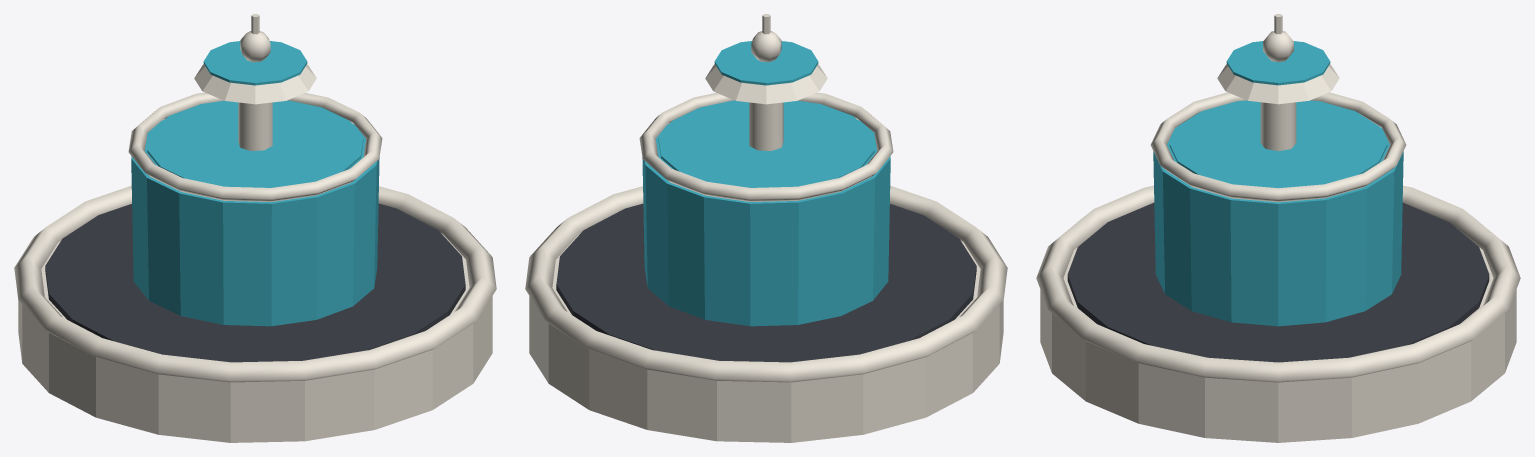
Rendered from fountain.glb.
The picture shows the model from 3 angles, left to right: view 1: azimuth 30°, elevation 25°; view 2: azimuth 150°, elevation 25°; view 3: azimuth 270°, elevation 25°; orthographic projection.
Visible parts, largest first — view 1: fountain, Water; view 2: fountain, Water; view 3: fountain, Water.
Boxes of the visible parts, bbox=[...] form: fountain: bbox=[14, 14, 496, 442]; Water: bbox=[131, 41, 379, 326]; fountain: bbox=[525, 14, 1007, 442]; Water: bbox=[642, 41, 890, 326]; fountain: bbox=[1036, 14, 1520, 442]; Water: bbox=[1153, 41, 1403, 326].
Bounding box in the file's own units: 3.56 × 2.65 × 3.56.
